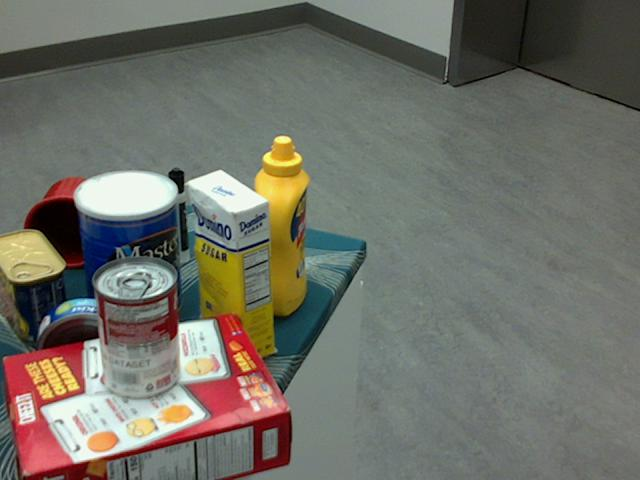cracker_box: (4, 314, 291, 479)
large_marker: (168, 167, 188, 262)
master_chef_can: (72, 170, 181, 332)
mug: (20, 176, 110, 269)
mustard_bottle: (251, 134, 308, 316)
potted_meat_can: (0, 227, 70, 345)
sugar_box: (187, 168, 274, 365)
tomato_soup_can: (91, 257, 178, 400)
tuna_fish_can: (35, 297, 130, 390)
